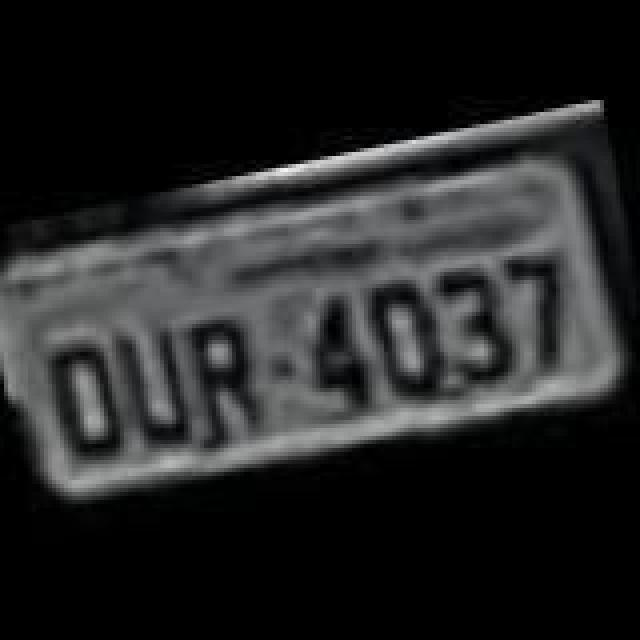3: (428, 260, 512, 388)
4: (292, 284, 384, 420)
7: (502, 246, 582, 378)
O: (40, 336, 132, 464), (360, 272, 444, 400)
R: (186, 310, 274, 442)
U: (114, 316, 202, 452)
